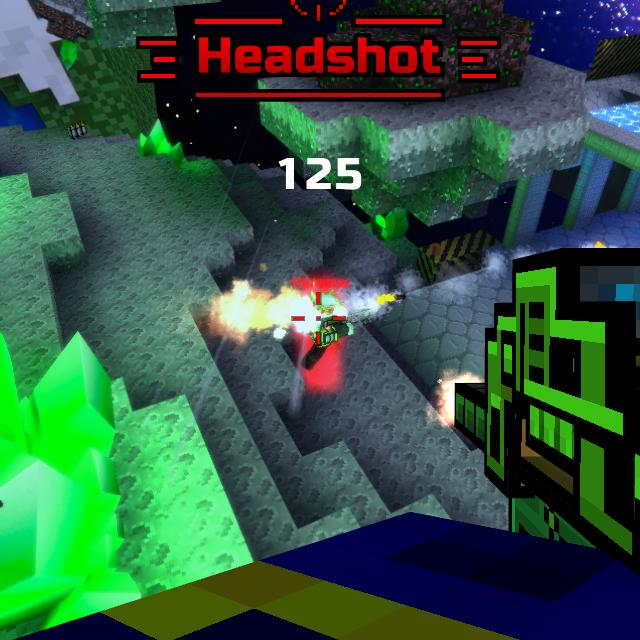Enemy: (297, 292, 346, 371)
